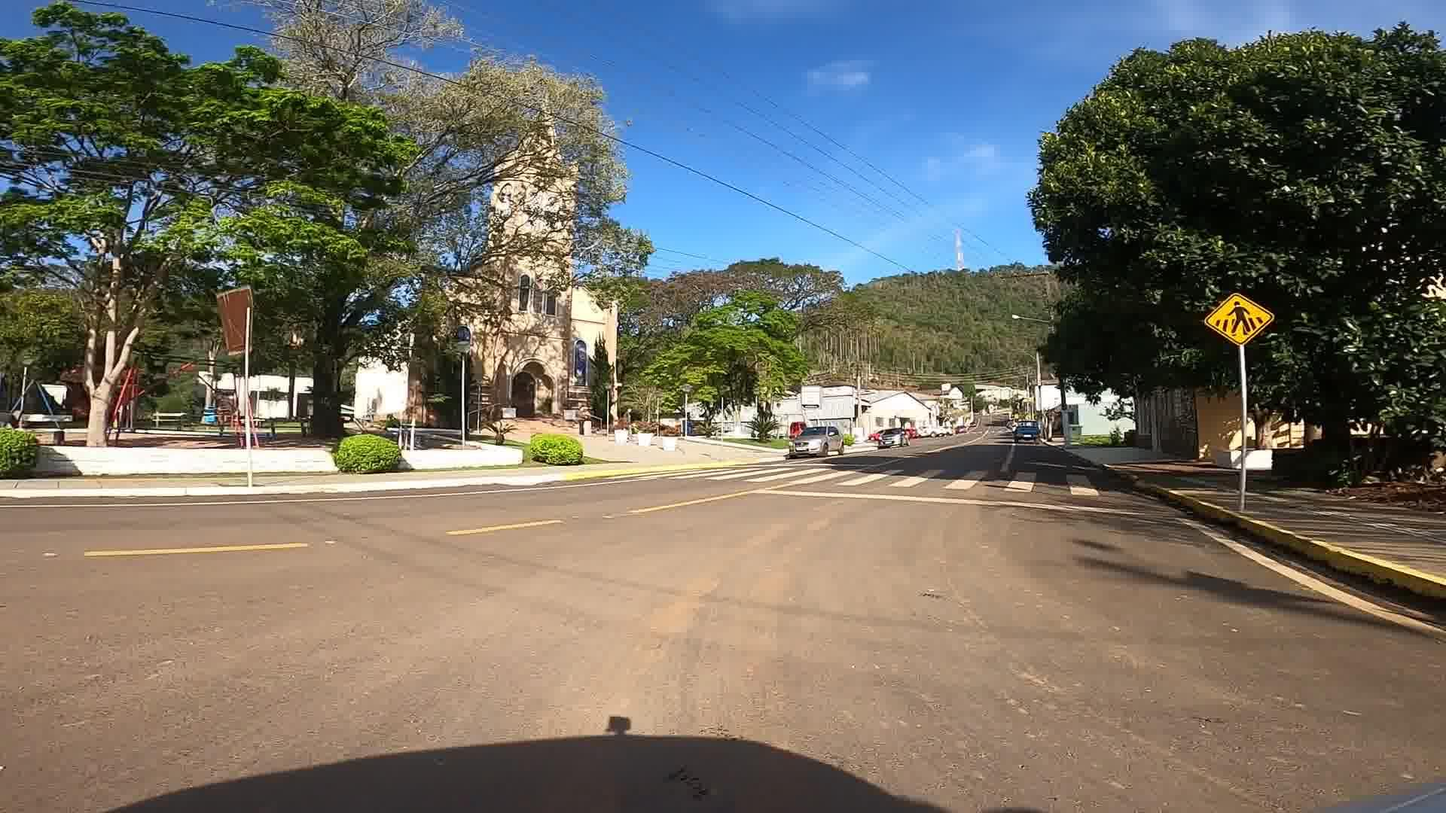A-32b: (1205, 288, 1275, 352)
